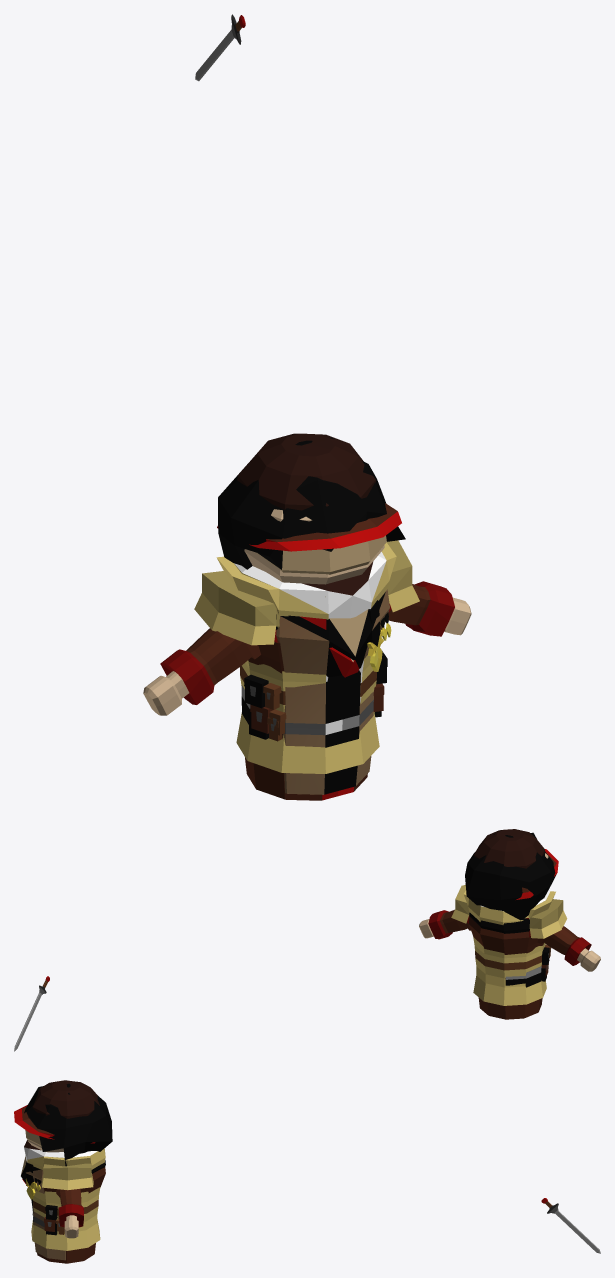
Rendered from players_vs_1.fbx.
The picture shows the model from 3 angles, top to bottom: view 1: azimuth 30°, elevation 25°; view 2: azimuth 150°, elevation 25°; view 3: azimuth 270°, elevation 25°; orthographic projection. The views are drawn at different scales.
Visible parts, largest first — view 1: Sphere.005, Sphere.015, Plane.001, Sphere.006; view 2: Sphere.015, Plane.001, Sphere.005, Sphere.006, Sphere.001; view 3: Sphere.015, Sphere.005, Plane.001, Sphere.006, Sphere.001.
Part boxes in pixels (box(x1,y1,x2,y2)): Sphere.005: box(218, 437, 405, 794); Sphere.015: box(216, 433, 396, 773); Plane.001: box(143, 440, 471, 800); Sphere.006: box(194, 509, 419, 737); Sphere.015: box(463, 829, 555, 1005); Plane.001: box(419, 835, 600, 1019); Sphere.005: box(465, 832, 556, 976); Sphere.006: box(451, 853, 567, 987); Sphere.001: box(14, 976, 49, 1051); Sphere.015: box(24, 1080, 105, 1250); Sphere.005: box(21, 1086, 112, 1260); Plane.001: box(14, 1083, 105, 1263); Sphere.006: box(25, 1160, 105, 1190); Sphere.001: box(541, 1198, 600, 1253).
Size of the model in its own units: 637 by 343 by 1097.
